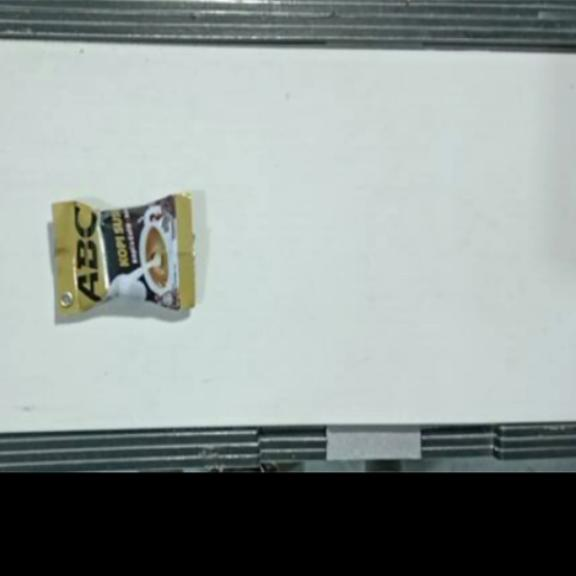Plastik: (53, 191, 196, 315)
